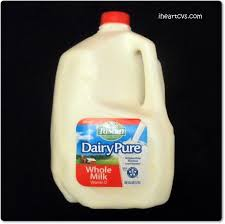milk: (54, 13, 172, 207)
